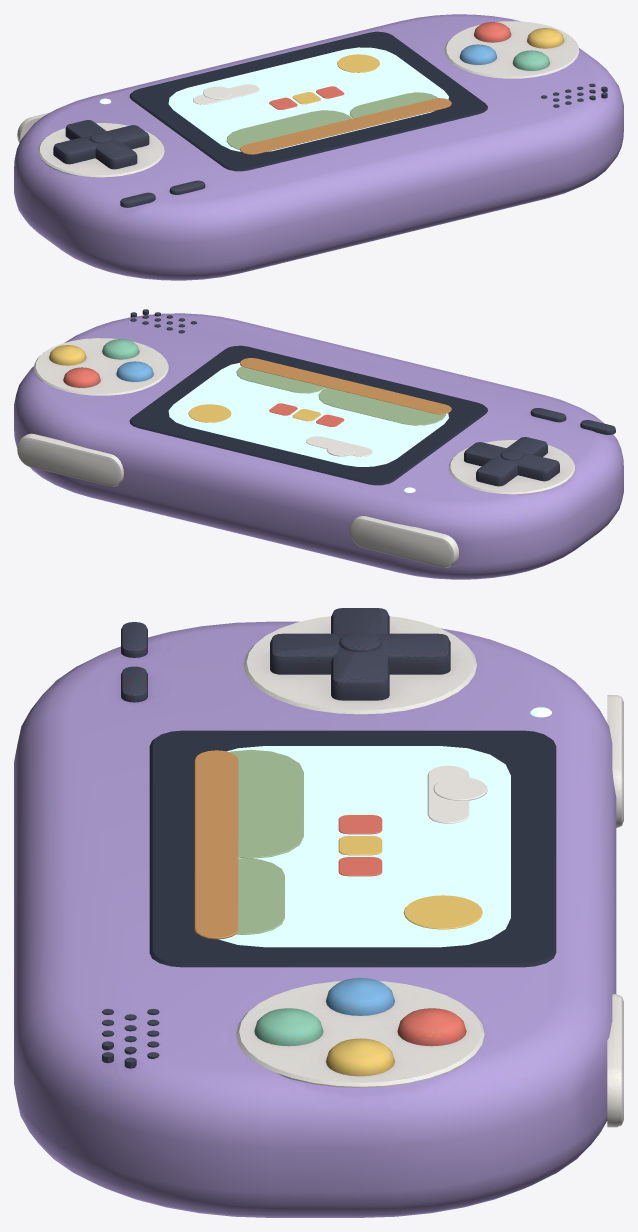
Rendered from consola_portatil.glb.
3 views of the same model, one above another, from view 1: azimuth 30°, elevation 25°; view 2: azimuth 150°, elevation 25°; view 3: azimuth 270°, elevation 25° (orthographic). The views are drawn at different scales.
Parts seen in each view (by area): view 1: handheld-game-console_body; view 2: handheld-game-console_body; view 3: handheld-game-console_body.
Boxes of the visible parts, bbox=[...] form: handheld-game-console_body: bbox=[14, 14, 623, 280]; handheld-game-console_body: bbox=[14, 309, 623, 579]; handheld-game-console_body: bbox=[14, 608, 623, 1217].
Size of the model in its own units: 0.155 by 0.0236 by 0.081.
Materials: 9 (1 with a texture image).
